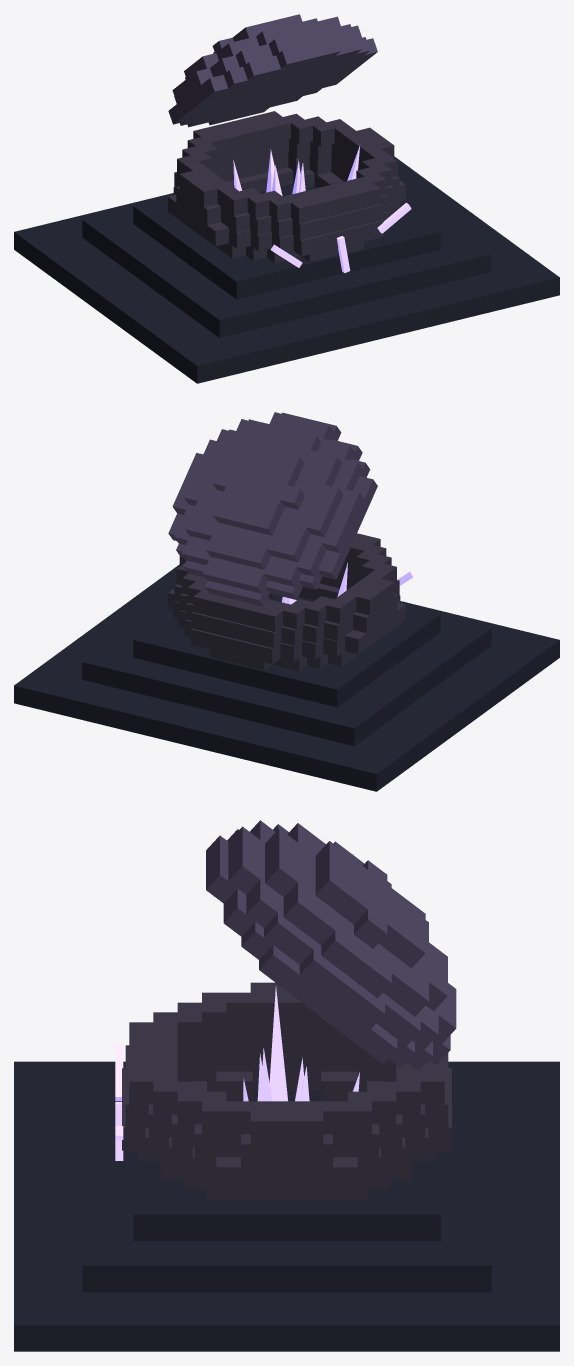
File: CACHE_ABYSS.glb
3 renders of one model, top to bottom at view 1: azimuth 30°, elevation 25°; view 2: azimuth 150°, elevation 25°; view 3: azimuth 270°, elevation 25°, orthographic. The views are drawn at different scales.
Parts seen in each view (by area): view 1: CACHE_ABYSS_Main, CACHE_ABYSS_Accent, CACHE_ABYSS_Lid, CACHE_ABYSS_Glow; view 2: CACHE_ABYSS_Main, CACHE_ABYSS_Lid, CACHE_ABYSS_Accent; view 3: CACHE_ABYSS_Main, CACHE_ABYSS_Accent, CACHE_ABYSS_Lid, CACHE_ABYSS_Glow.
Part boxes in pixels (left/top/right/bottom): CACHE_ABYSS_Main: left=14, top=156, right=559, bottom=383; CACHE_ABYSS_Accent: left=168, top=111, right=405, bottom=262; CACHE_ABYSS_Lid: left=168, top=14, right=377, bottom=127; CACHE_ABYSS_Glow: left=233, top=145, right=411, bottom=272; CACHE_ABYSS_Main: left=14, top=564, right=559, bottom=791; CACHE_ABYSS_Lid: left=168, top=412, right=377, bottom=606; CACHE_ABYSS_Accent: left=168, top=533, right=405, bottom=671; CACHE_ABYSS_Main: left=14, top=1061, right=559, bottom=1351; CACHE_ABYSS_Accent: left=122, top=982, right=451, bottom=1199; CACHE_ABYSS_Lid: left=206, top=820, right=456, bottom=1071; CACHE_ABYSS_Glow: left=115, top=986, right=359, bottom=1160.
Size of the model in its own units: 3.2 by 2.11 by 2.8.
